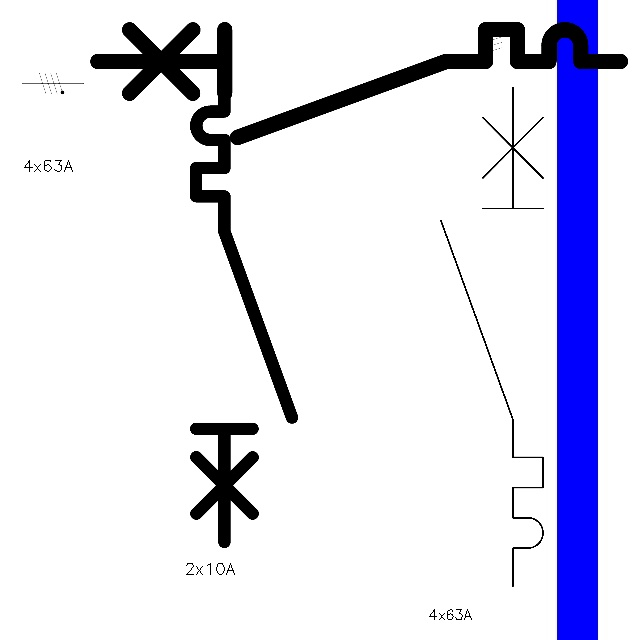interruptor_termomagnetico: (84, 16, 634, 150), (428, 74, 556, 599), (184, 64, 304, 554)
